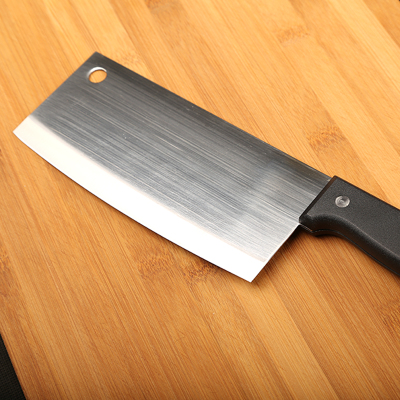knief: (11, 51, 400, 275)
